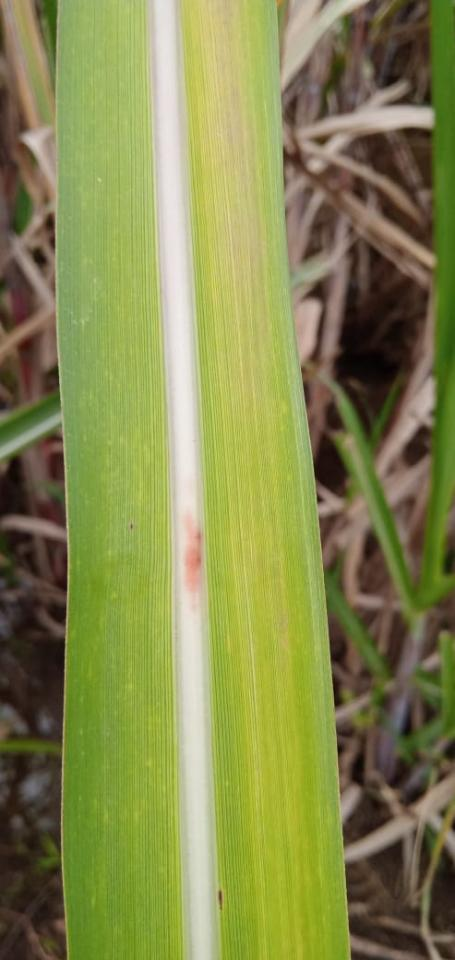RedRot: (182, 504, 203, 593)
Rust: (216, 887, 225, 912), (128, 521, 135, 534)
Yellow: (215, 0, 268, 266)
